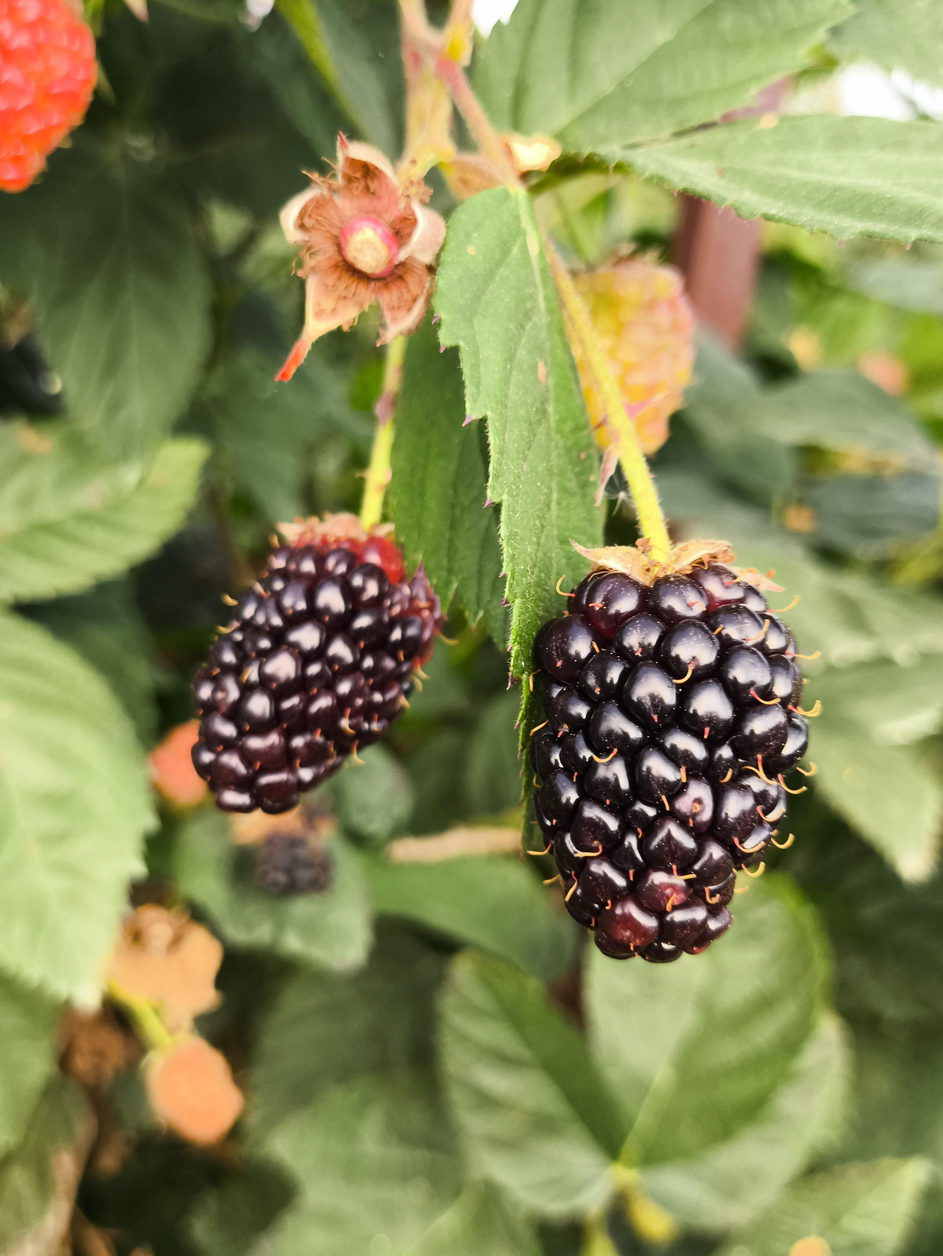marron: (536, 564, 801, 960), (197, 526, 430, 820)
